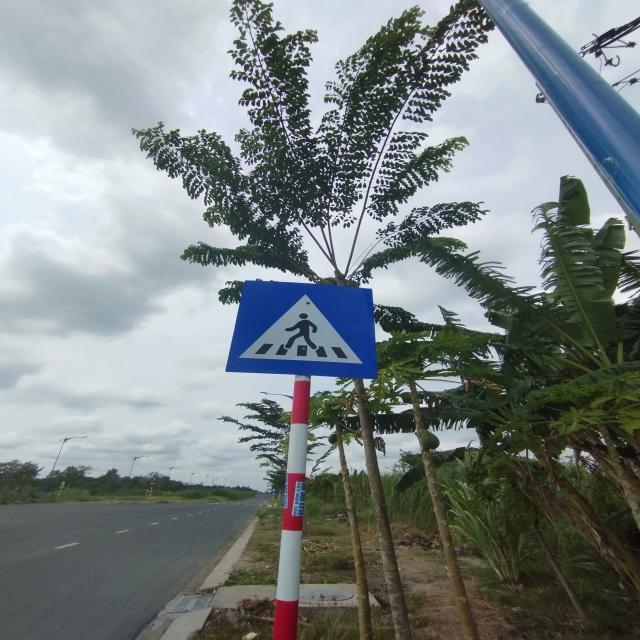Giao_Nhau_Duong_Uu_Tien: (225, 280, 378, 380)
